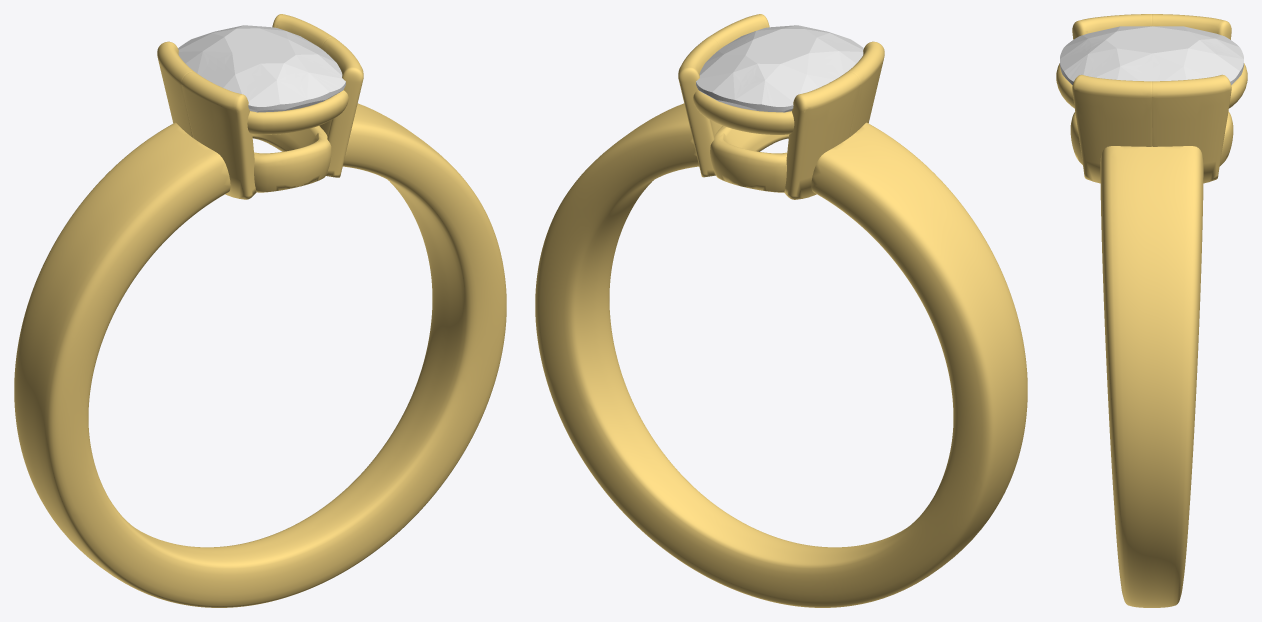
The model's file is diamond-cushion-yellowgold-halfmoonbezel-straighttaperedband-nosidestones.glb.
3 views of the same model, side by side, from view 1: azimuth 30°, elevation 25°; view 2: azimuth 150°, elevation 25°; view 3: azimuth 270°, elevation 25° (orthographic).
Visible parts, largest first — view 1: metal.003, stone; view 2: metal.003, stone; view 3: metal.003, stone.
Part boxes in pixels (x1=…): metal.003: x1=14, y1=14, x2=506, y2=607; stone: x1=178, y1=25, x2=345, y2=112; metal.003: x1=535, y1=14, x2=1027, y2=607; stone: x1=696, y1=25, x2=863, y2=112; metal.003: x1=1056, y1=14, x2=1247, y2=607; stone: x1=1060, y1=26, x2=1243, y2=84.
Size of the model in its own units: 20.51 by 23.24 by 7.42.
